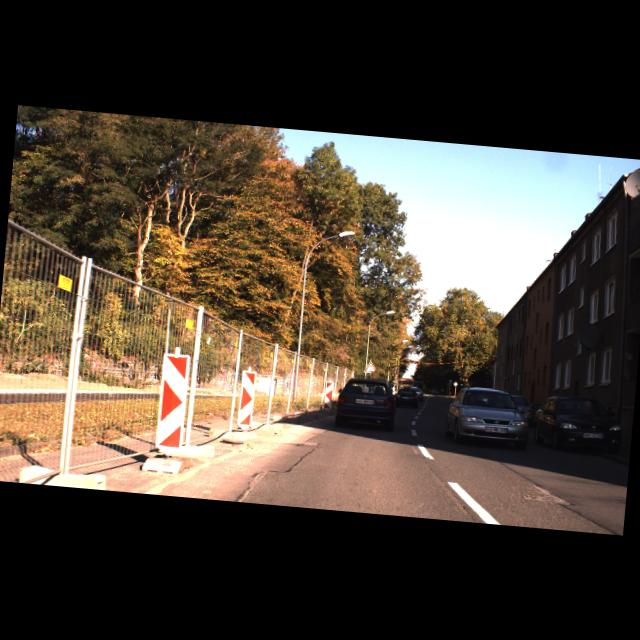danger: (364, 360, 378, 373)
